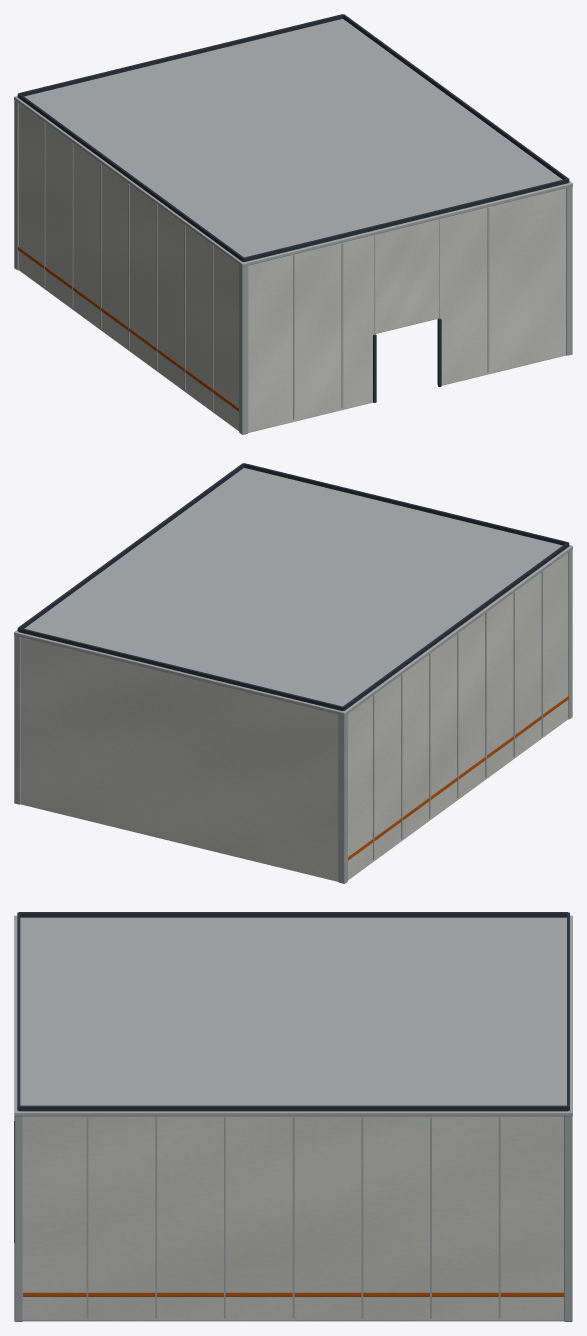
Rendered from spacecraft_building.glb.
3 views of the same model, one above another, from view 1: azimuth 30°, elevation 25°; view 2: azimuth 150°, elevation 25°; view 3: azimuth 270°, elevation 25° (orthographic). The views are drawn at different scales.
Visible parts, largest first — view 1: Roof.002, Side_Wall.004, Front_Wall.005, Front_Wall.004, Door_Header.002, Roof_Parapet.010, Roof_Parapet.011, Corner_Pier.008, Roof_Parapet.008, Roof_Parapet.009, Corner_Pier.010, Side_IdentityStripe.004 (+1 smaller); view 2: Roof.002, Back_Wall.002, Side_Wall.004, Roof_Parapet.011, Roof_Parapet.010, Corner_Pier.009, Roof_Parapet.008, Roof_Parapet.009, Corner_Pier.011, Side_IdentityStripe.004, Corner_Pier.008; view 3: Roof.002, Side_Wall.005, Roof_Parapet.009, Roof_Parapet.008, Side_IdentityStripe.005, Corner_Pier.010, Corner_Pier.011, Roof_Parapet.010, Facade_Column.035, Facade_Column.038, Facade_Column.039, Facade_Column.041 (+1 smaller).
Boxes of the visible parts, x1,y1,x2,y2 form: Roof.002: (14,19,572,266); Side_Wall.004: (18,103,238,430); Front_Wall.005: (437,188,566,385); Front_Wall.004: (248,235,374,432); Door_Header.002: (374,219,439,333); Roof_Parapet.010: (243,179,568,261); Roof_Parapet.011: (18,14,342,96); Corner_Pier.008: (239,265,248,434); Roof_Parapet.008: (17,93,244,261); Roof_Parapet.009: (342,14,569,181); Corner_Pier.010: (566,186,572,355); Side_IdentityStripe.004: (18,247,238,411); Roof.002: (14,468,572,715); Back_Wall.002: (20,637,338,881); Side_Wall.004: (348,552,568,879); Roof_Parapet.011: (18,628,343,710); Roof_Parapet.010: (244,463,568,545); Corner_Pier.009: (338,714,347,883); Roof_Parapet.008: (342,542,569,710); Roof_Parapet.009: (17,463,244,630); Corner_Pier.011: (14,635,20,804); Side_IdentityStripe.004: (348,696,568,860); Corner_Pier.008: (568,549,572,719); Roof.002: (14,915,572,1116); Side_Wall.005: (23,1116,563,1321); Roof_Parapet.009: (18,1105,568,1111); Roof_Parapet.008: (18,912,568,917); Side_IdentityStripe.005: (23,1292,563,1296); Corner_Pier.010: (14,1116,22,1321); Corner_Pier.011: (564,1116,572,1321); Roof_Parapet.010: (17,912,20,1110); Facade_Column.035: (86,1117,88,1318); Facade_Column.038: (292,1117,294,1318); Facade_Column.039: (361,1117,363,1318); Facade_Column.041: (498,1117,500,1318).
Bounding box in the file's own units: 20.4 × 10.31 × 24.41.
4 materials, 2 textured.
